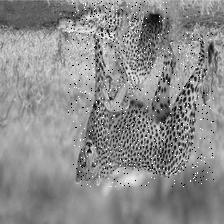Cheetha: (73, 33, 214, 187), (66, 0, 169, 114)
